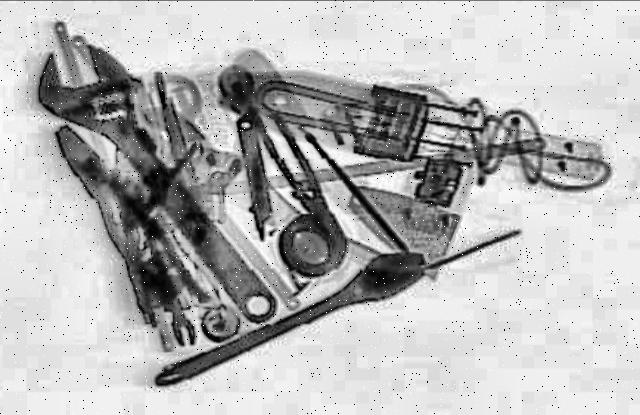Pliers: (28, 121, 218, 320), (246, 103, 350, 236)
Wrench: (9, 37, 318, 336), (135, 244, 451, 403), (160, 283, 204, 349)
